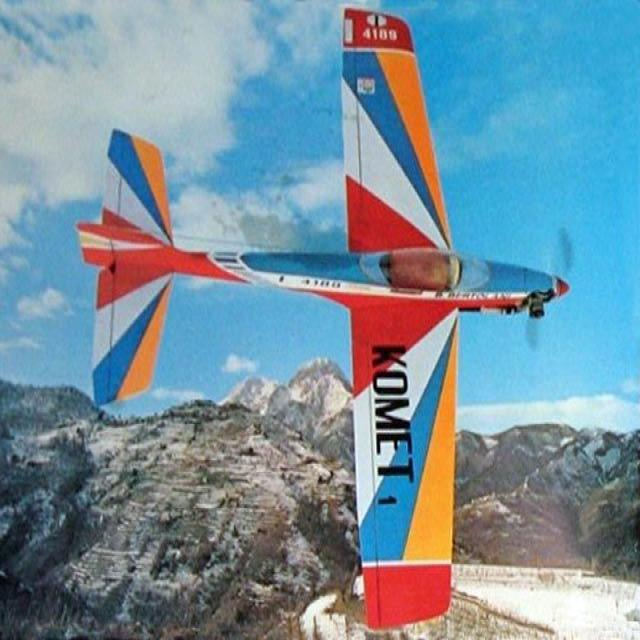iha: (74, 5, 573, 633)
